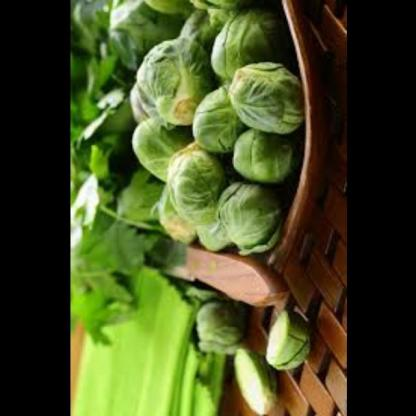brus capusta: (111, 20, 305, 250), (223, 336, 281, 415), (178, 292, 241, 354), (251, 299, 307, 366)
